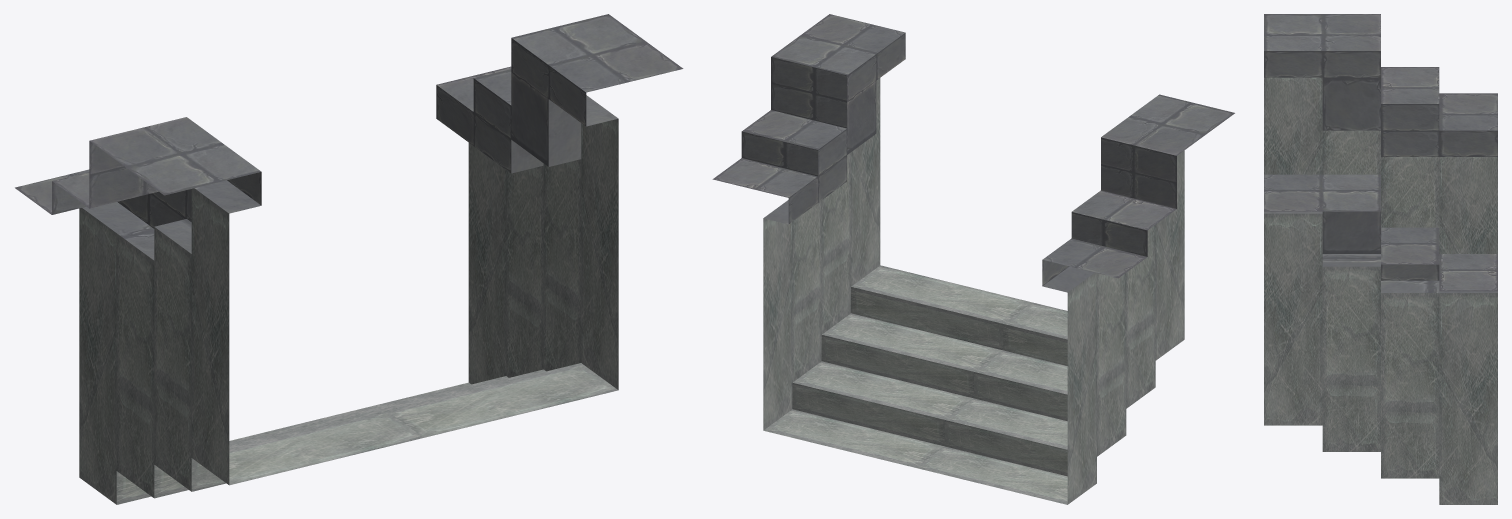
Rendered from open_stairs.FBX.
The picture shows the model from 3 angles, left to right: view 1: azimuth 30°, elevation 25°; view 2: azimuth 150°, elevation 25°; view 3: azimuth 270°, elevation 25°; orthographic projection. The views are drawn at different scales.
Visible parts, largest first — view 1: ice_large_stairs; view 2: ice_large_stairs; view 3: ice_large_stairs.
Boxes of the visible parts, bbox=[...] form: ice_large_stairs: bbox=[15, 14, 683, 504]; ice_large_stairs: bbox=[712, 14, 1234, 504]; ice_large_stairs: bbox=[1264, 14, 1497, 504].
Size of the model in its own units: 80 by 60 by 40.
